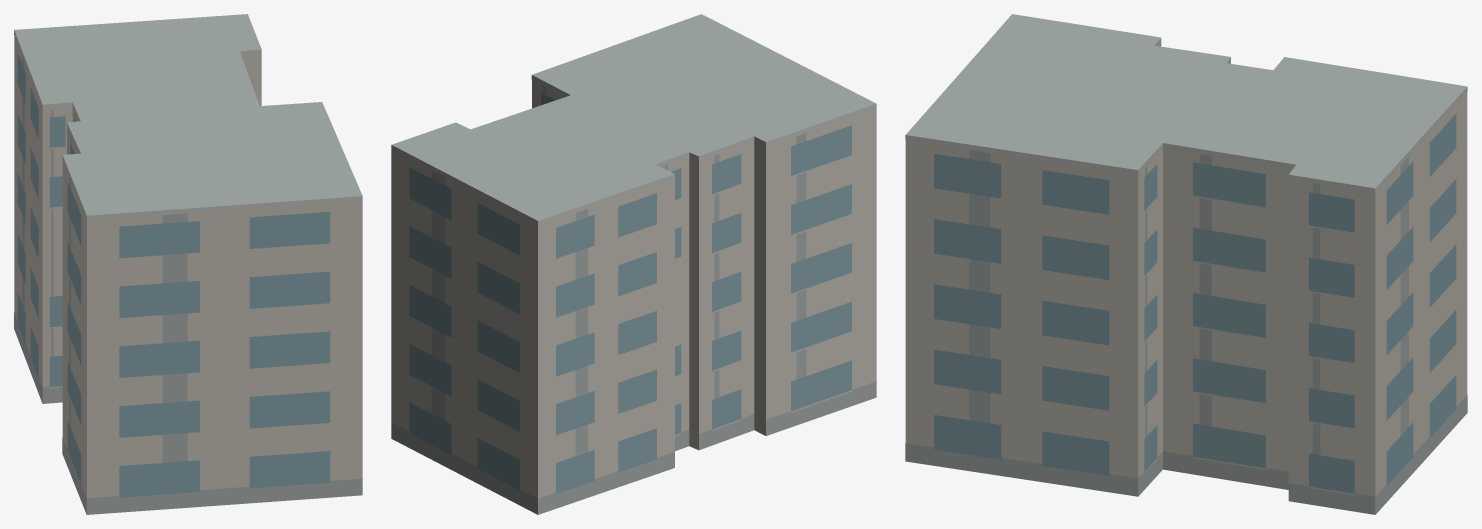
File: survey-upis-33018218.glb
3 renders of one model, left to right at view 1: azimuth 30°, elevation 25°; view 2: azimuth 150°, elevation 25°; view 3: azimuth 270°, elevation 25°, orthographic. The views are drawn at different scales.
Visible parts, largest first — view 1: survey-upis-33018218.tmp; view 2: survey-upis-33018218.tmp; view 3: survey-upis-33018218.tmp.
Boxes of the visible parts, x1=… form: survey-upis-33018218.tmp: x1=14, y1=14, x2=362, y2=514; survey-upis-33018218.tmp: x1=391, y1=14, x2=876, y2=514; survey-upis-33018218.tmp: x1=905, y1=14, x2=1467, y2=514.
Bounding box in the file's own units: 16.79 × 14.65 × 22.86.
